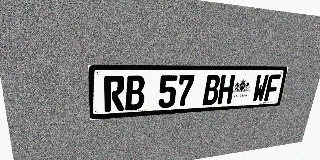5: (158, 75, 178, 108)
7: (176, 75, 195, 107)
B: (125, 75, 145, 110), (202, 75, 221, 105)
F: (264, 74, 281, 101)
H: (217, 75, 235, 104)
R: (104, 75, 125, 112)
W: (252, 74, 269, 102)
